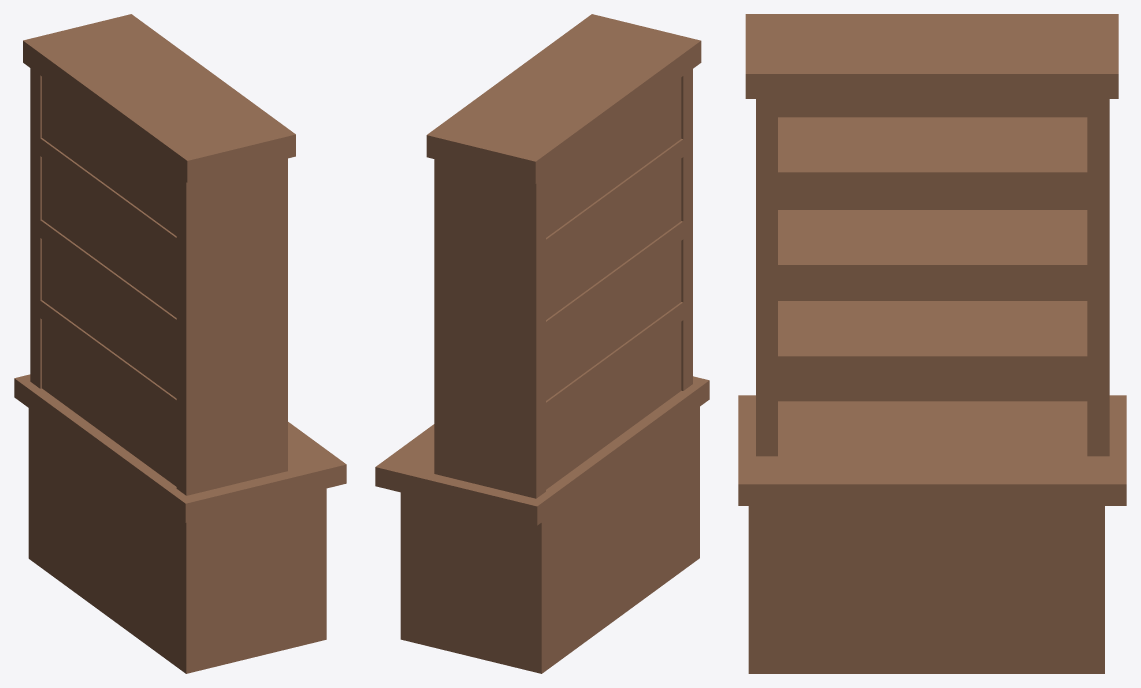
The model's file is shelf.fbx.
3 views of the same model, side by side, from view 1: azimuth 30°, elevation 25°; view 2: azimuth 150°, elevation 25°; view 3: azimuth 270°, elevation 25° (orthographic). The views are drawn at different scales.
Visible parts, largest first — view 1: Plane.025; view 2: Plane.025; view 3: Plane.025.
Part boxes in pixels (<box>): Plane.025: <box>14,14,346,673</box>; Plane.025: <box>375,14,709,673</box>; Plane.025: <box>738,14,1126,673</box>.
Bounding box in the file's own units: 262 × 799 × 483.
